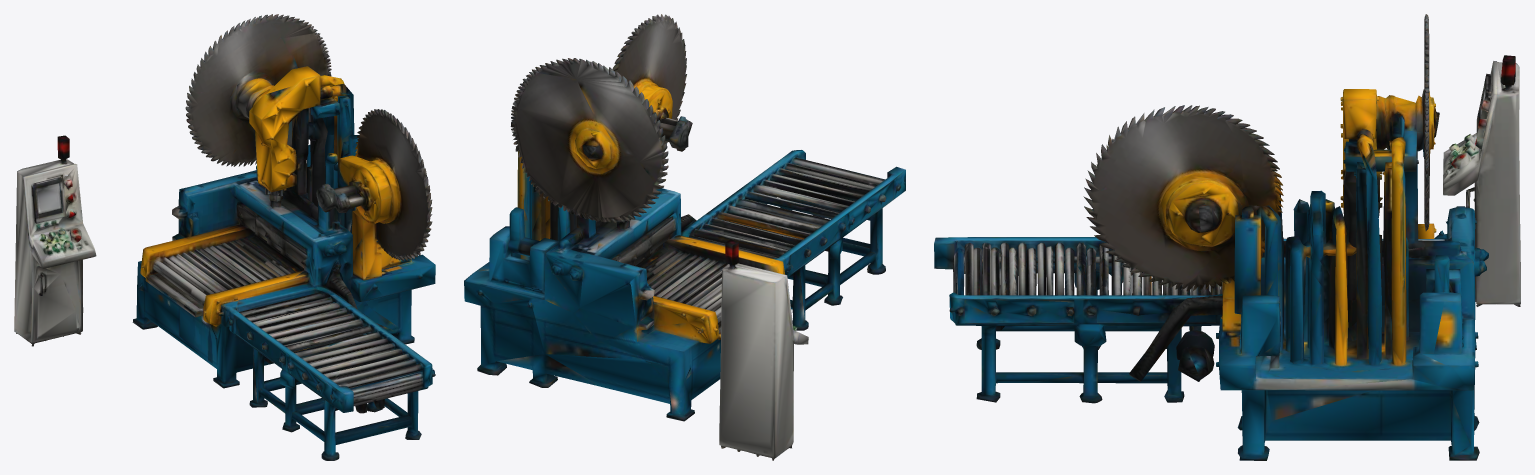
File: auto_sawmill_github.glb
3 renders of one model, left to right at view 1: azimuth 30°, elevation 25°; view 2: azimuth 150°, elevation 25°; view 3: azimuth 270°, elevation 25°, orthographic. The views are drawn at different scales.
Parts seen in each view (by area): view 1: auto_sawmill_github; view 2: auto_sawmill_github; view 3: auto_sawmill_github.
Part boxes in pixels (x1,y1,x2,y2): auto_sawmill_github: (14,14,435,460); auto_sawmill_github: (464,14,905,460); auto_sawmill_github: (934,14,1520,460).
Size of the model in its own units: 0.6642 by 0.6066 by 0.8437.
Materials: 1 (1 with a texture image).
